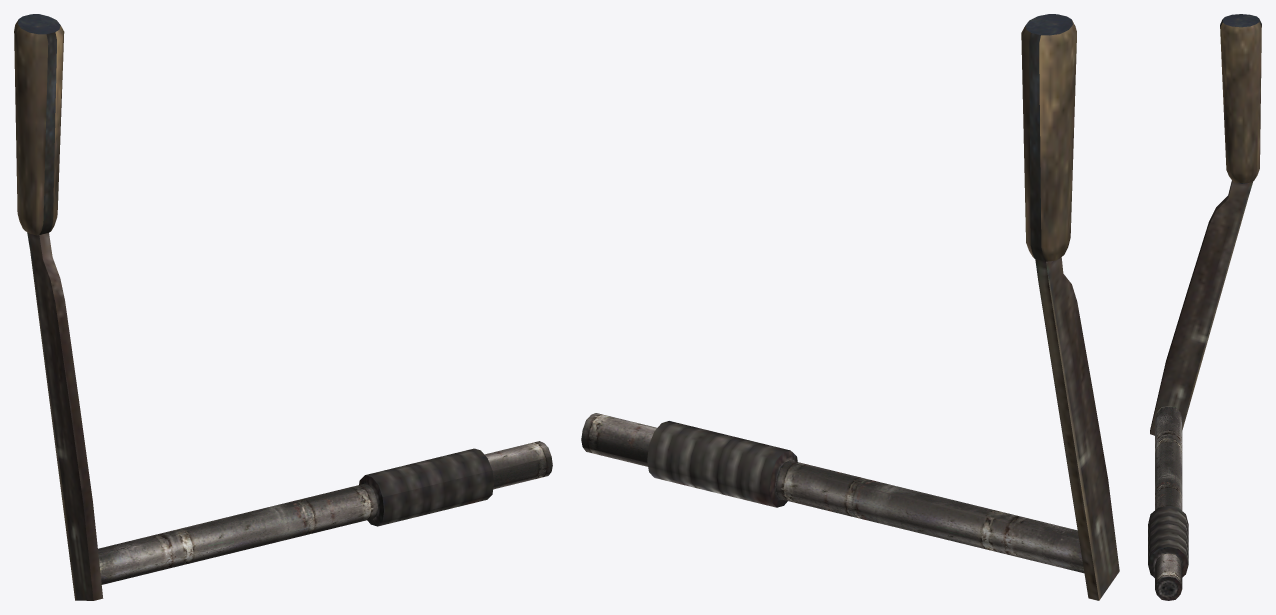
File: pruj.obj
The picture shows the model from 3 angles, left to right: view 1: azimuth 30°, elevation 25°; view 2: azimuth 150°, elevation 25°; view 3: azimuth 270°, elevation 25°; orthographic projection. The views are drawn at different scales.
Visible parts, largest first — view 1: wpn34_gatling; view 2: wpn34_gatling; view 3: wpn34_gatling.
Part boxes in pixels (left/top/right/bottom): wpn34_gatling: left=14, top=14, right=552, bottom=600; wpn34_gatling: left=581, top=14, right=1119, bottom=600; wpn34_gatling: left=1148, top=14, right=1261, bottom=600.
Bounding box in the file's own units: 0.2529 × 0.2757 × 0.0673.
1 material, 1 textured.
